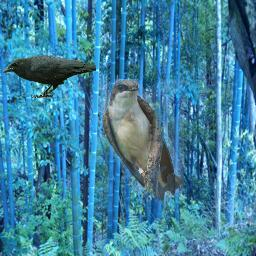Crow: (2, 55, 96, 99)
Swallow: (102, 79, 184, 203)
